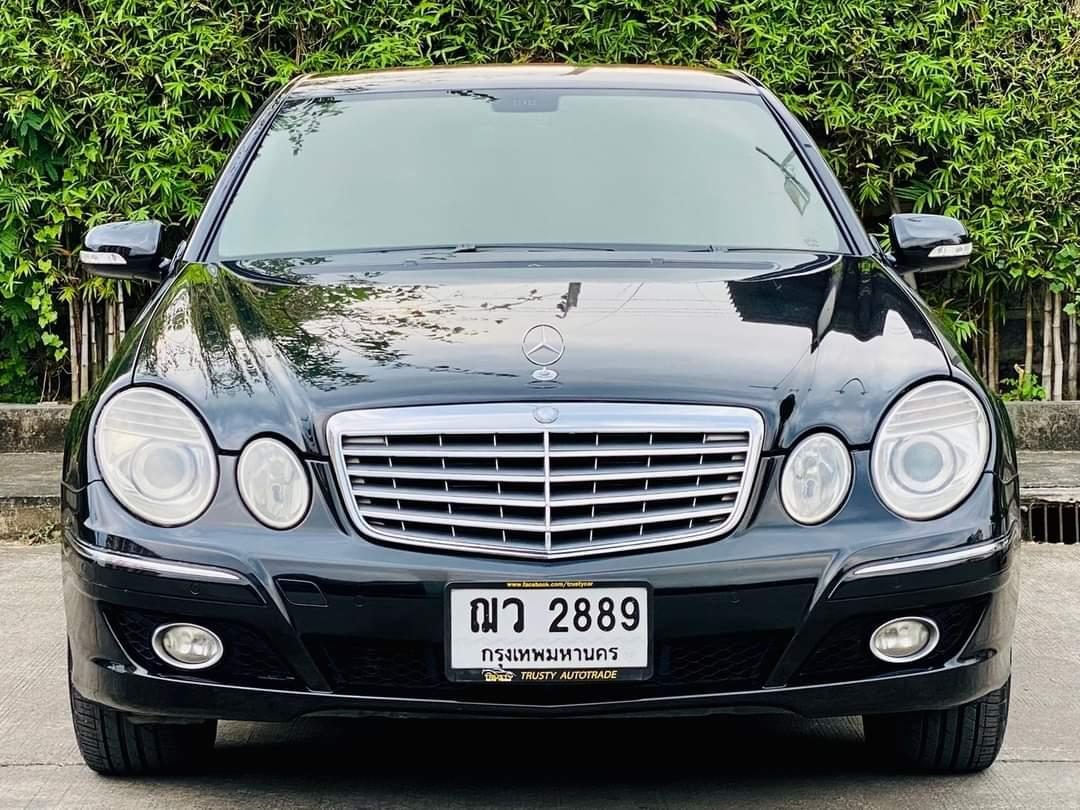license-plate: (442, 578, 657, 684)
